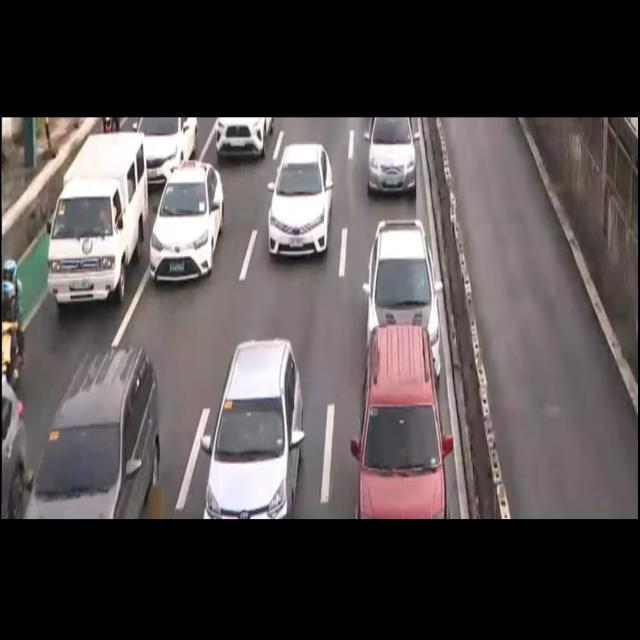Pick-up: (45, 137, 146, 308)
SUV: (24, 349, 160, 518), (349, 325, 451, 518)
Sedan: (202, 340, 306, 518), (362, 218, 444, 375), (149, 165, 221, 281), (264, 146, 336, 256), (364, 117, 417, 195)
